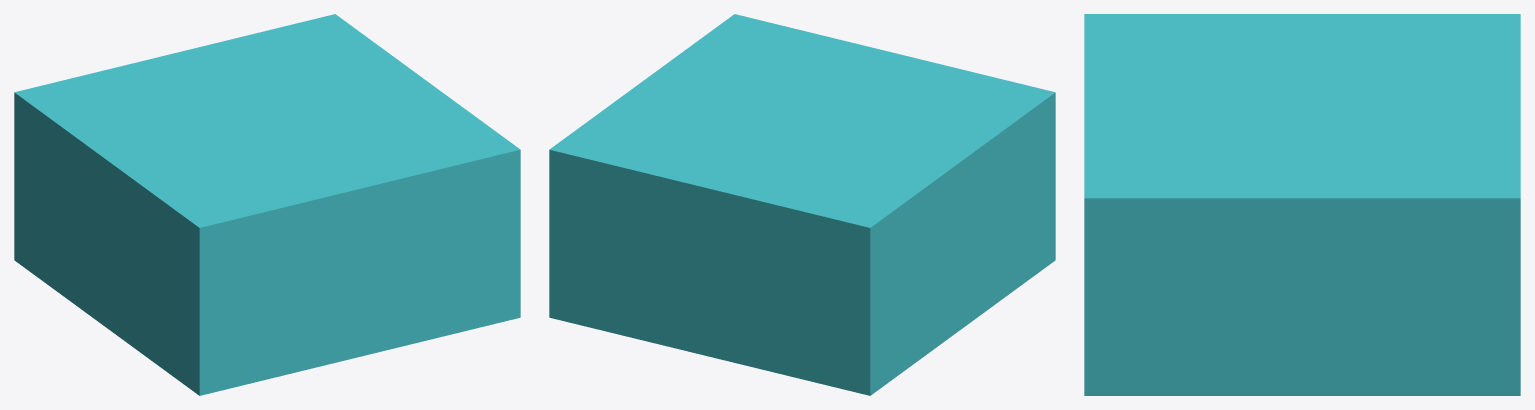
File: escena.DAE
The picture shows the model from 3 angles, left to right: view 1: azimuth 30°, elevation 25°; view 2: azimuth 150°, elevation 25°; view 3: azimuth 270°, elevation 25°; orthographic projection. The views are drawn at different scales.
Visible parts, largest first — view 1: Box001; view 2: Box001; view 3: Box001.
Boxes of the visible parts, x1,y1,x2,y2 form: Box001: (14, 14, 520, 395); Box001: (549, 14, 1055, 395); Box001: (1084, 14, 1520, 395).
Size of the model in its own units: 100 by 50 by 100.
